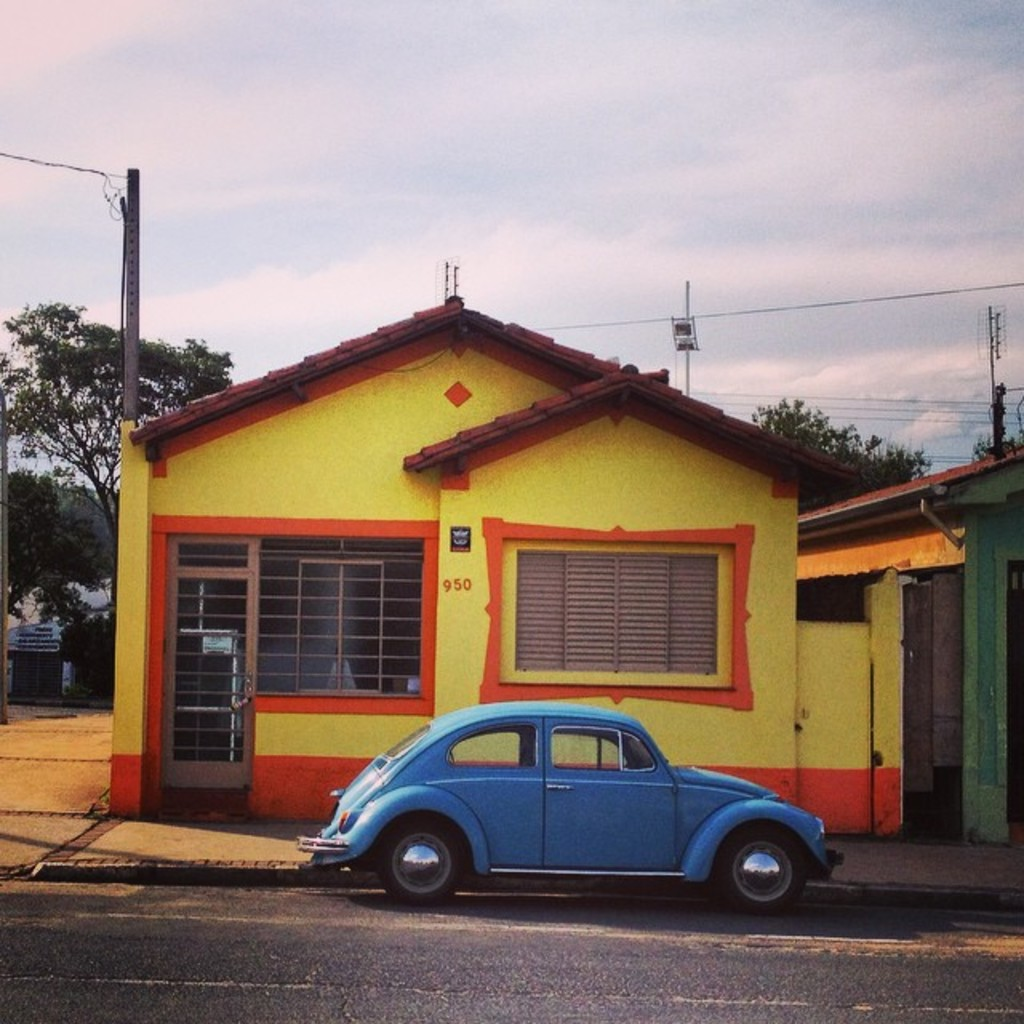Car: (294, 697, 848, 923)
